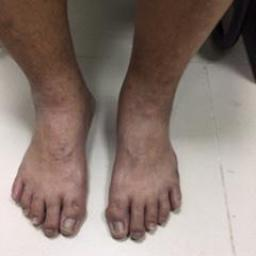Dorsal View -Both Feet-: (6, 63, 196, 245)
